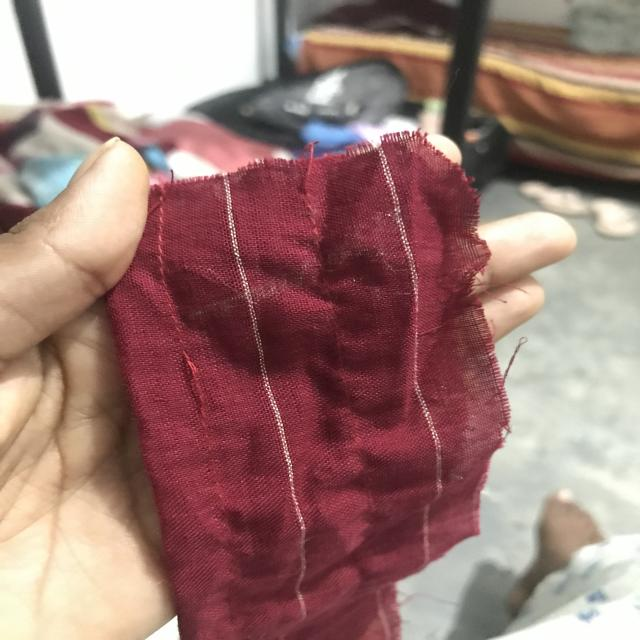good: (154, 268, 184, 323)
skip: (162, 348, 238, 429)
